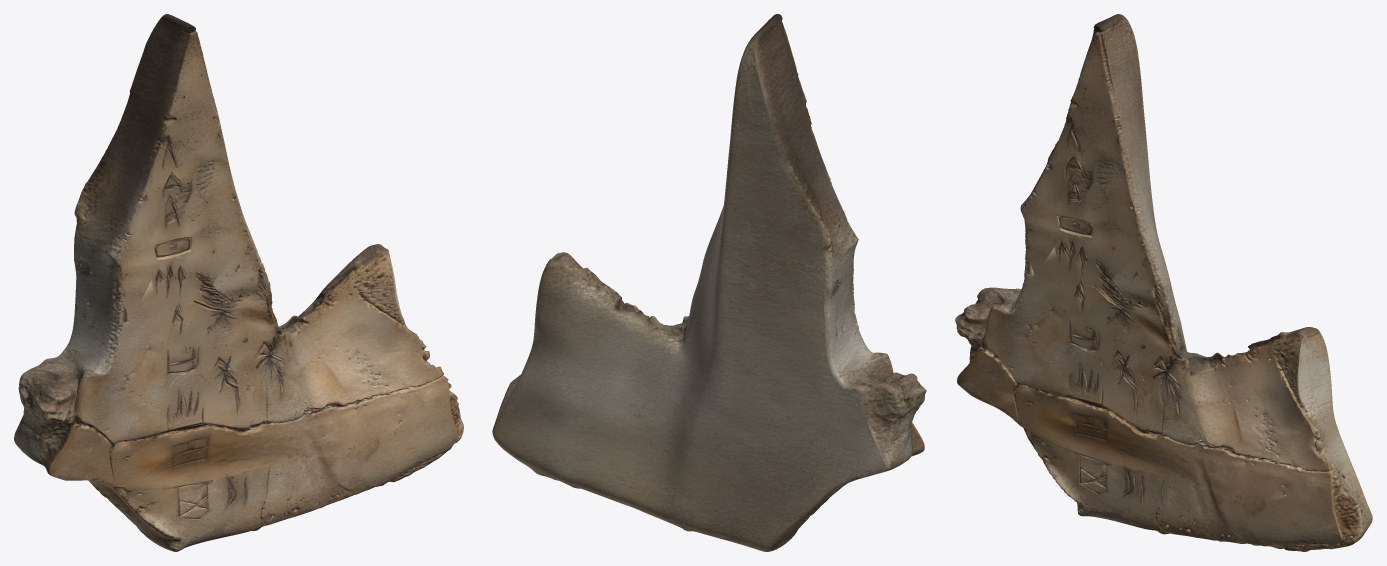
3 renders of one model, left to right at view 1: azimuth 30°, elevation 25°; view 2: azimuth 150°, elevation 25°; view 3: azimuth 330°, elevation 25°, orthographic. The views are drawn at different scales.
Parts seen in each view (by area): view 1: node_0; view 2: node_0; view 3: node_0.
Boxes of the visible parts, x1=… form: node_0: x1=14, y1=14, x2=463, y2=551; node_0: x1=492, y1=14, x2=926, y2=551; node_0: x1=955, y1=14, x2=1372, y2=551.
Bounding box in the file's own units: 0.8625 × 1.01 × 0.1374.
1 material, 1 textured.
